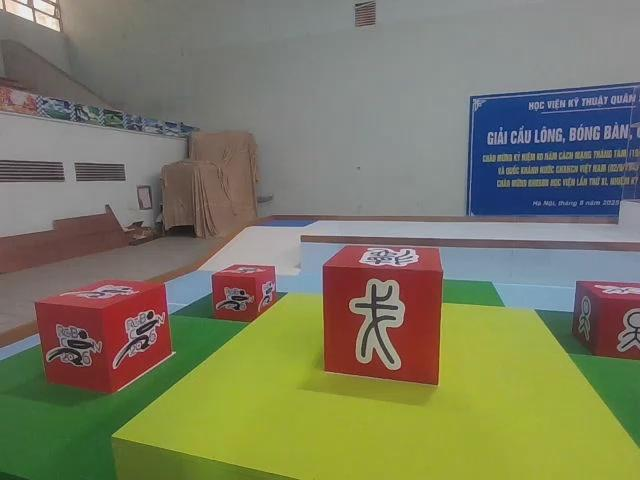R1: (35, 277, 172, 402), (211, 259, 279, 319)
R2 Fake: (320, 242, 442, 387)
R2 Real: (573, 279, 640, 362)
